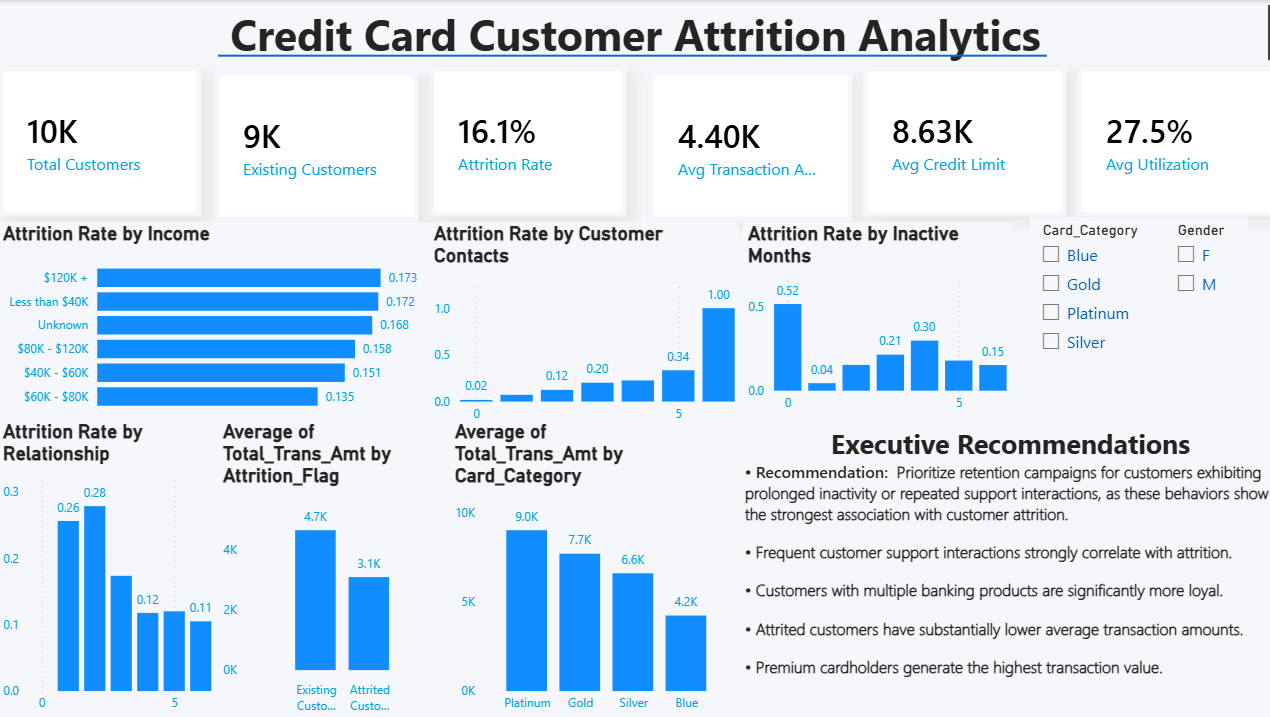

The dashboard page shown, as its layout file describes it:
{"tool":"powerbi","page":{"name":"Page 1","canvas":[1280,720],"ordinal":0},"visuals":[{"type":"textbox","box":[0,0,1280,66.1],"z":0},{"type":"cardVisual","fields":{"Data":["BankChurners.Total Customers"]},"box":[0,66.1,203.1,150.2],"z":1000},{"type":"cardVisual","fields":{"Data":["BankChurners.Attrition Rate"]},"box":[430.3,66.1,197.1,150.2],"z":2000},{"type":"cardVisual","fields":{"Data":["BankChurners.Existing Customers"]},"box":[215.1,70.9,204.3,150.2],"z":3000},{"type":"cardVisual","fields":{"Data":["BankChurners.Avg Transaction Amount"]},"box":[649,70.9,203.1,150.2],"z":4000},{"type":"cardVisual","fields":{"Data":["BankChurners.Avg Credit Limit"]},"box":[862.9,66.1,203.1,150.2],"z":5000},{"type":"cardVisual","fields":{"Data":["BankChurners.Avg Utilization"]},"box":[1076.9,66.1,203.1,150.2],"z":6000},{"type":"clusteredBarChart","title":"Attrition Rate by Income","fields":{"Y":["BankChurners.Gender Attrition %"],"Category":["BankChurners.Income_Category"]},"box":[0,221.1,430.3,198.3],"z":7000},{"type":"clusteredColumnChart","title":"Attrition Rate by Customer Contacts","fields":{"Category":["BankChurners.Contacts_Count_12_mon"],"Y":["BankChurners.Gender Attrition %"]},"box":[430.3,221.1,310.1,209.1],"z":8000},{"type":"clusteredColumnChart","title":"Attrition Rate by Inactive Months","fields":{"Y":["BankChurners.Gender Attrition %"],"Category":["BankChurners.Months_Inactive_12_mon"]},"box":[742.8,221.1,268,198.3],"z":9000},{"type":"clusteredColumnChart","title":"Attrition Rate by Relationship","fields":{"Y":["BankChurners.Gender Attrition %"],"Category":["BankChurners.Total_Relationship_Count"]},"box":[0,419.5,219.9,300.5],"z":10000},{"type":"clusteredColumnChart","fields":{"Category":["BankChurners.Attrition_Flag"],"Y":["Avg(BankChurners.Total_Trans_Amt)"]},"box":[219.9,419.5,226,300.5],"z":11000},{"type":"clusteredColumnChart","fields":{"Category":["BankChurners.Card_Category"],"Y":["Avg(BankChurners.Total_Trans_Amt)"]},"box":[450.7,419.5,283.6,300.5],"z":12000},{"type":"textbox","box":[740.4,419.5,539.6,300.5],"z":13000},{"type":"slicer","fields":{"Values":["BankChurners.Card_Category"]},"box":[1030,216.3,134.6,169.5],"z":14000},{"type":"slicer","fields":{"Values":["BankChurners.Gender"]},"box":[1164.6,216.3,82.9,86.5],"z":15000},{"type":"shape","box":[219.9,33.7,826.9,43.3],"z":16000}]}

Visuals, with their boxes in screenshot pixels (x1, y1, x2, y2), scaled from the page's 1280x720 canvas onto the 1270x717 screenshot:
textbox: bbox(0, 0, 1269, 66)
cardVisual - BankChurners.Total Customers: bbox(0, 66, 202, 215)
cardVisual - BankChurners.Attrition Rate: bbox(427, 66, 622, 215)
cardVisual - BankChurners.Existing Customers: bbox(213, 71, 416, 220)
cardVisual - BankChurners.Avg Transaction Amount: bbox(644, 71, 845, 220)
cardVisual - BankChurners.Avg Credit Limit: bbox(856, 66, 1058, 215)
cardVisual - BankChurners.Avg Utilization: bbox(1068, 66, 1269, 215)
"Attrition Rate by Income" clusteredBarChart: bbox(0, 220, 427, 418)
"Attrition Rate by Customer Contacts" clusteredColumnChart: bbox(427, 220, 735, 428)
"Attrition Rate by Inactive Months" clusteredColumnChart: bbox(737, 220, 1003, 418)
"Attrition Rate by Relationship" clusteredColumnChart: bbox(0, 418, 218, 716)
clusteredColumnChart - BankChurners.Attrition_Flag x Avg(BankChurners.Total_Trans_Amt): bbox(218, 418, 442, 716)
clusteredColumnChart - BankChurners.Card_Category x Avg(BankChurners.Total_Trans_Amt): bbox(447, 418, 729, 716)
textbox: bbox(735, 418, 1269, 716)
slicer - BankChurners.Card_Category: bbox(1022, 215, 1156, 384)
slicer - BankChurners.Gender: bbox(1156, 215, 1238, 302)
shape: bbox(218, 34, 1039, 77)
